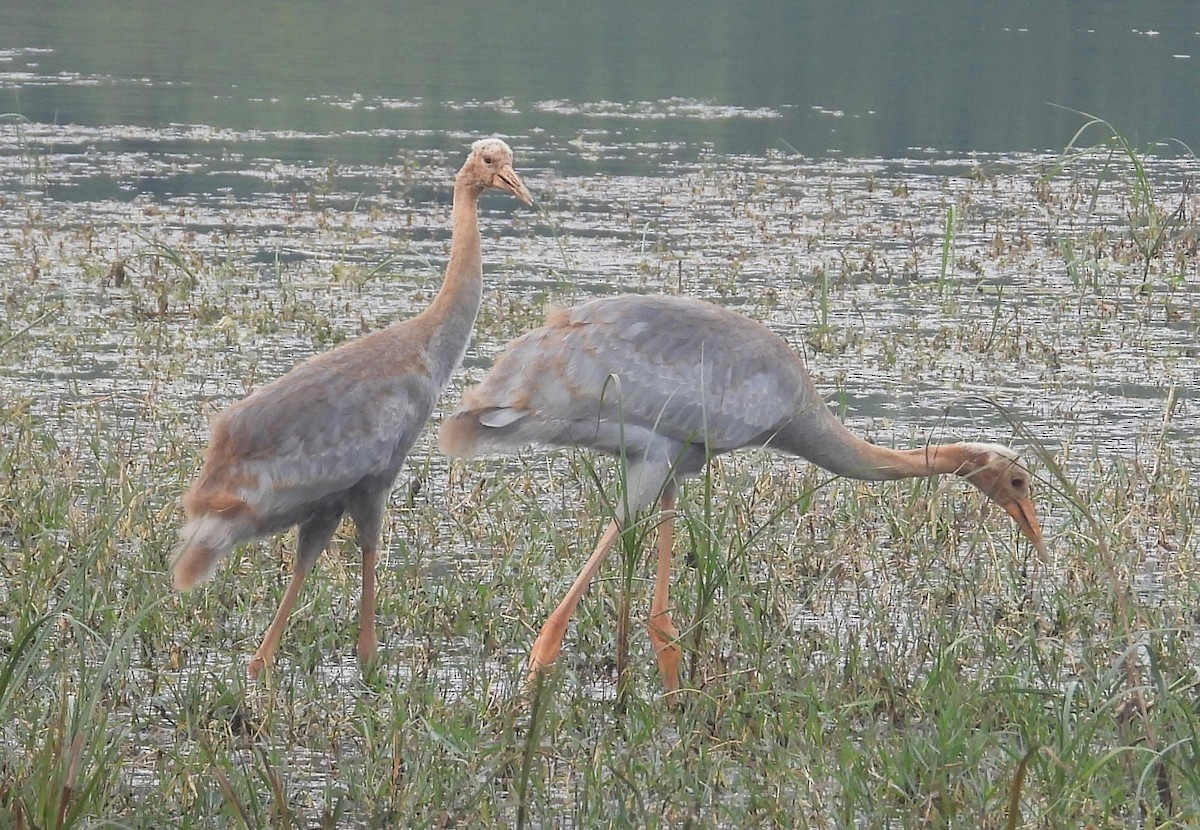crane: (484, 291, 1061, 699), (170, 135, 543, 690)
